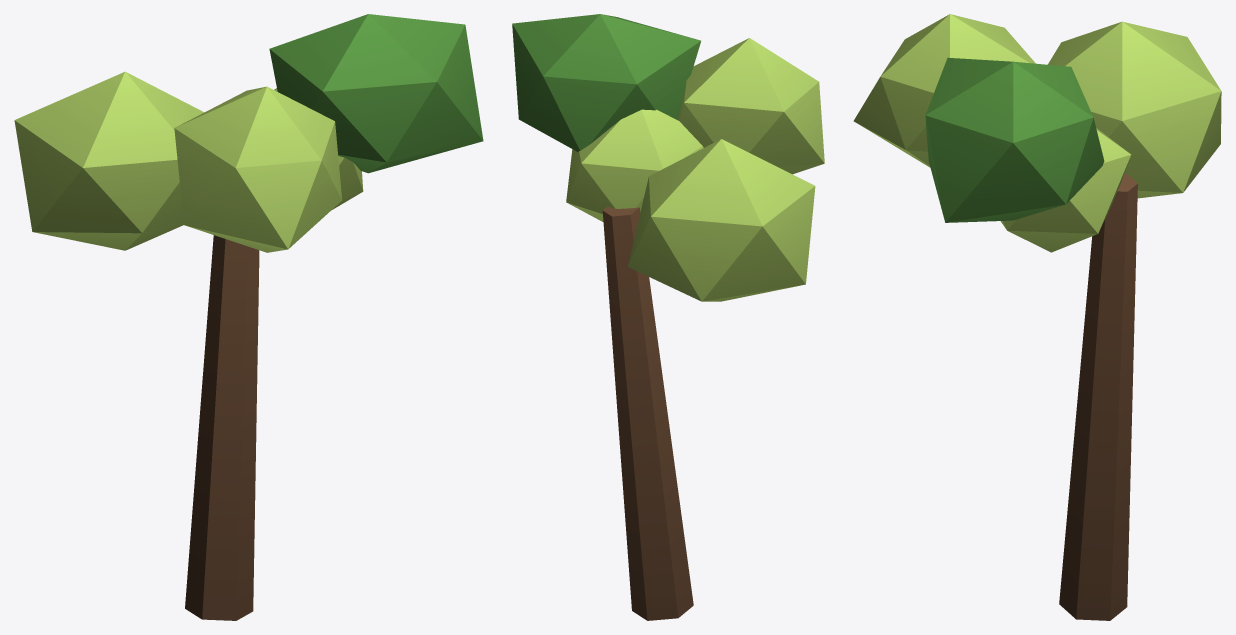
Rendered from tree_K.glb.
3 renders of one model, left to right at view 1: azimuth 30°, elevation 25°; view 2: azimuth 150°, elevation 25°; view 3: azimuth 270°, elevation 25°, orthographic. The views are drawn at different scales.
Parts seen in each view (by area): view 1: tree_K; view 2: tree_K; view 3: tree_K.
Part boxes in pixels (x1=…): tree_K: x1=14, y1=14, x2=483, y2=620; tree_K: x1=512, y1=14, x2=824, y2=620; tree_K: x1=853, y1=14, x2=1221, y2=620.
Bounding box in the file's own units: 0.8945 × 1.36 × 0.7557.
1 material, 1 textured.
